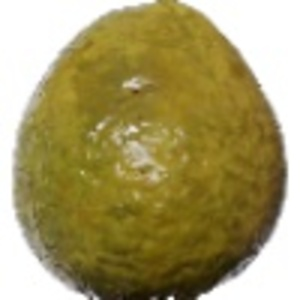goiaba: (17, 6, 286, 297)
